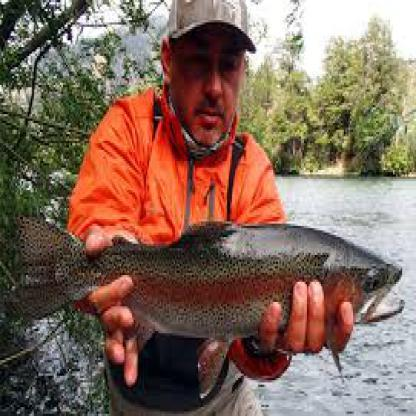fish: (13, 217, 405, 361)
